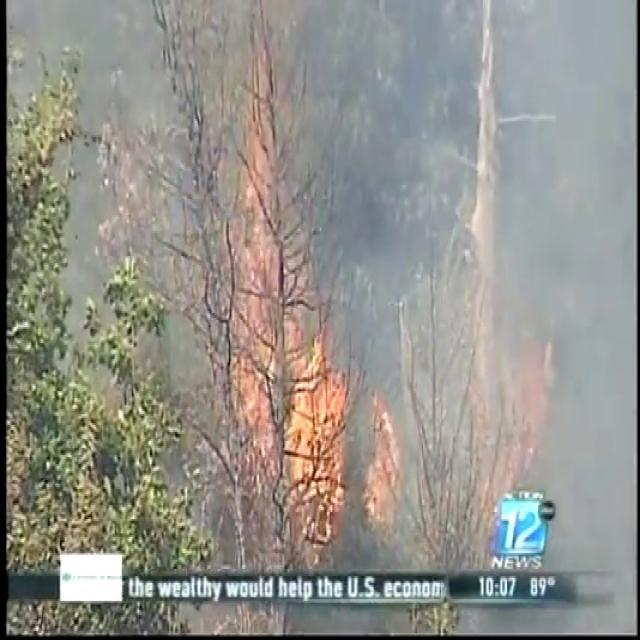Fire: (205, 64, 362, 537)
Smoke: (292, 2, 636, 556)
